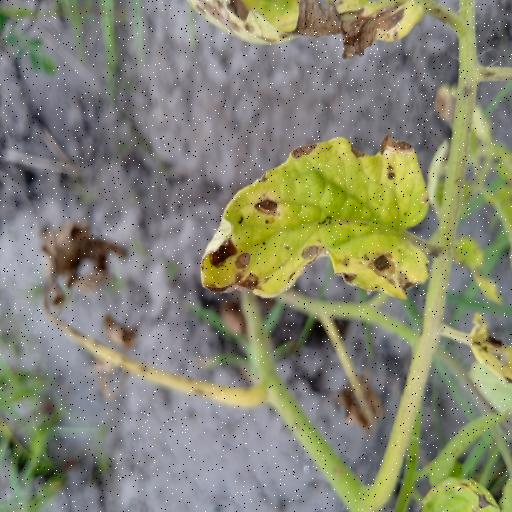Tomato_Brown_Spots: (200, 130, 435, 305)
